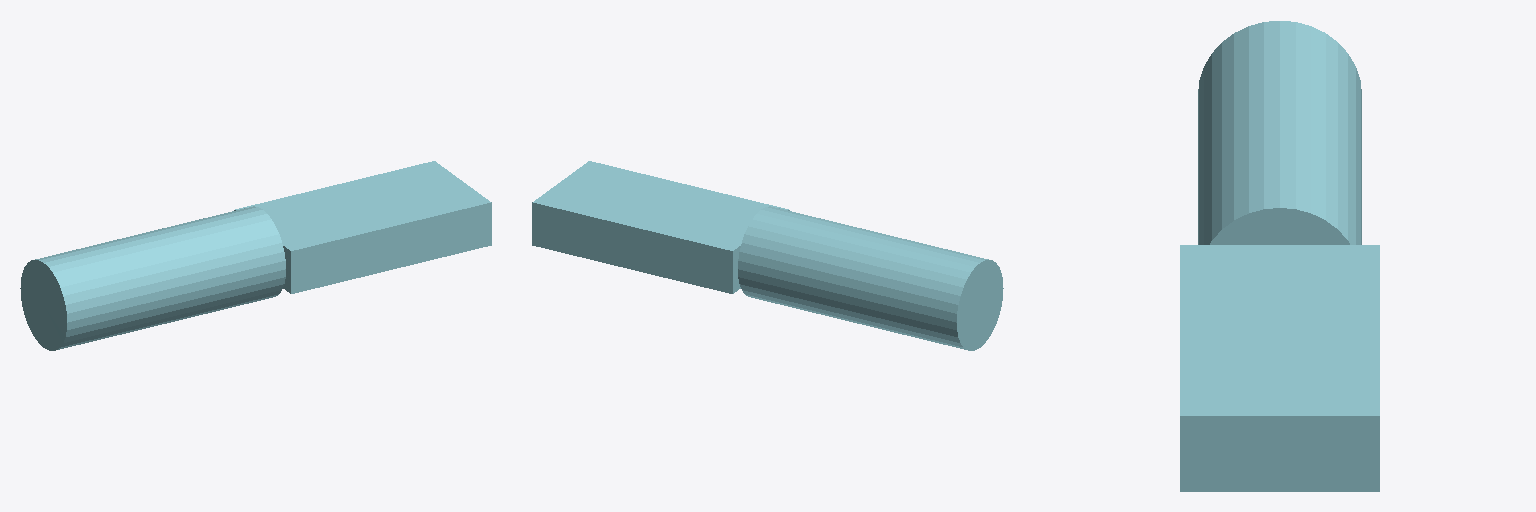
robot.urdf — cylinder_spatula_v6000:
<?xml version="1.0"?>
<robot name="cylinder_spatula_v6000">

  <link name="cylinder_spatula_v6000">
    <!-- Handle -->
    <visual>
      <origin xyz="0 0 0" rpy="0 1.5707963267948966 0"/>
      <geometry>
        <cylinder length="0.12436674540557136" radius="0.023044854809531765"/>
      </geometry>
      <material name="material">
        <color rgba="0.639 0.847 0.882 1.0"/>
      </material>
    </visual>
    <collision>
      <origin xyz="0 0 0" rpy="0 1.5707963267948966 0"/>
      <geometry>
        <cylinder length="0.12436674540557136" radius="0.023044854809531765"/>
      </geometry>
    </collision>

    <!-- Head -->
    <visual>
      <origin xyz="0.11906280772670863 0 0" rpy="0 0 0"/>
      <geometry>
        <box size="0.1137588700478459 0.055965962005370976 0.023404065107027097"/>
      </geometry>
      <material name="material">
        <color rgba="0.639 0.847 0.882 1.0"/>
      </material>
    </visual>
    <collision>
      <origin xyz="0.11906280772670863 0 0" rpy="0 0 0"/>
      <geometry>
        <box size="0.1137588700478459 0.055965962005370976 0.023404065107027097"/>
      </geometry>
    </collision>

    <inertial>
      <density value="400.0"/>
    </inertial>
  </link>

</robot>

--- Render facts (derived) ---
The picture shows the robot from 3 angles, left to right: view 1: azimuth 30°, elevation 25°; view 2: azimuth 150°, elevation 25°; view 3: azimuth 270°, elevation 25°; orthographic projection.
Model cylinder_spatula_v6000 with 1 links and 0 joints (none), rooted at cylinder_spatula_v6000, posed all joints at 0.
Visible links, largest first — view 1: cylinder_spatula_v6000; view 2: cylinder_spatula_v6000; view 3: cylinder_spatula_v6000.
Boxes of the visible links, <box> form: cylinder_spatula_v6000: <box>20,161,491,350</box>; cylinder_spatula_v6000: <box>532,161,1003,350</box>; cylinder_spatula_v6000: <box>1180,21,1379,491</box>.
Bounding box of the posed robot: 0.2381 × 0.056 × 0.0461 m (x, y, z).
Geometry: primitives only (box / cylinder / sphere), no mesh files.
